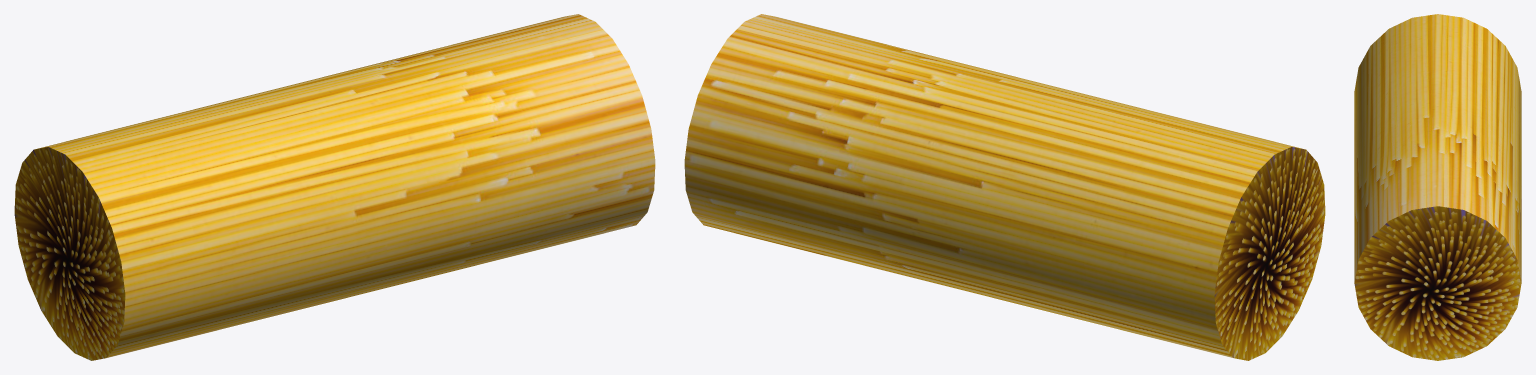
The model's file is noodle.fbx.
The picture shows the model from 3 angles, left to right: view 1: azimuth 30°, elevation 25°; view 2: azimuth 150°, elevation 25°; view 3: azimuth 270°, elevation 25°; orthographic projection. The views are drawn at different scales.
Parts seen in each view (by area): view 1: polySurface1; view 2: polySurface1; view 3: polySurface1.
Part boxes in pixels (box(x1,y1,x2,y2)): polySurface1: box(14, 14, 655, 360); polySurface1: box(684, 14, 1325, 360); polySurface1: box(1354, 14, 1521, 360).
Bounding box in the file's own units: 3.1 × 1.12 × 1.11.
